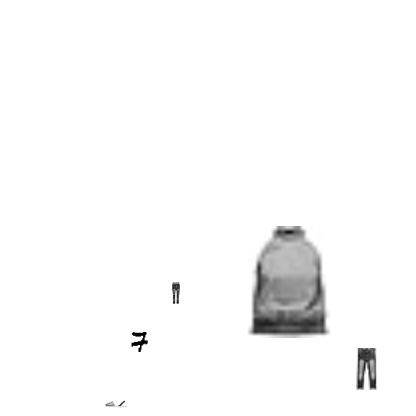7: (125, 326, 153, 354)
Sandal: (105, 393, 127, 415)
Shirt: (233, 226, 345, 338)
Trouser: (346, 348, 388, 390), (165, 282, 187, 304)
